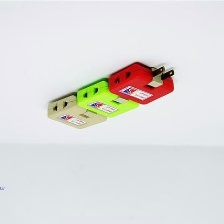three_eye_plug: (104, 57, 179, 109), (74, 74, 143, 121), (43, 89, 109, 133)
